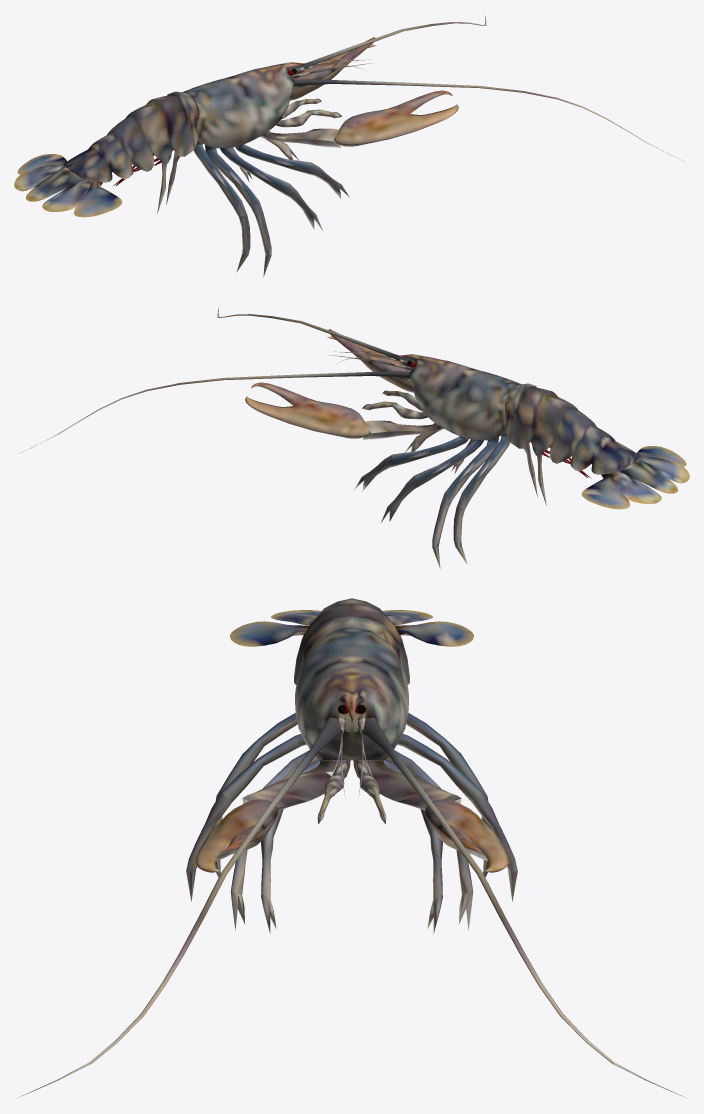
File: fish-tom-hum.glb
3 renders of one model, top to bottom at view 1: azimuth 30°, elevation 25°; view 2: azimuth 150°, elevation 25°; view 3: azimuth 270°, elevation 25°, orthographic. The views are drawn at different scales.
Parts seen in each view (by area): view 1: body; view 2: body; view 3: body.
Part boxes in pixels (box(x1,y1,x2,y2)): body: box(14, 14, 682, 277); body: box(21, 306, 689, 569); body: box(18, 598, 685, 1097).
Bounding box in the file's own units: 1 × 0.274 × 0.6345.
